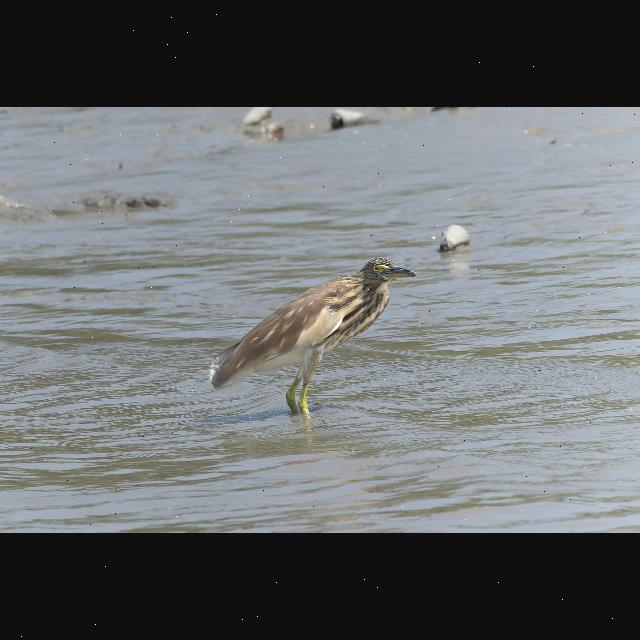heron: (191, 249, 419, 433)
